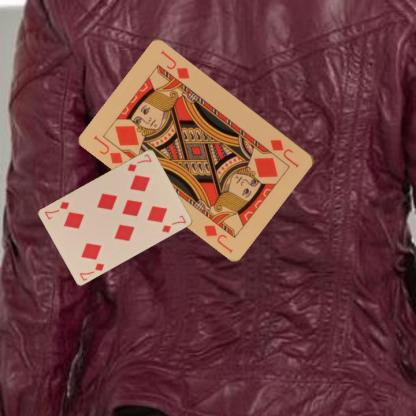7d: (77, 260, 106, 282), (125, 151, 153, 173)
Jd: (268, 136, 301, 169), (91, 133, 125, 165)
